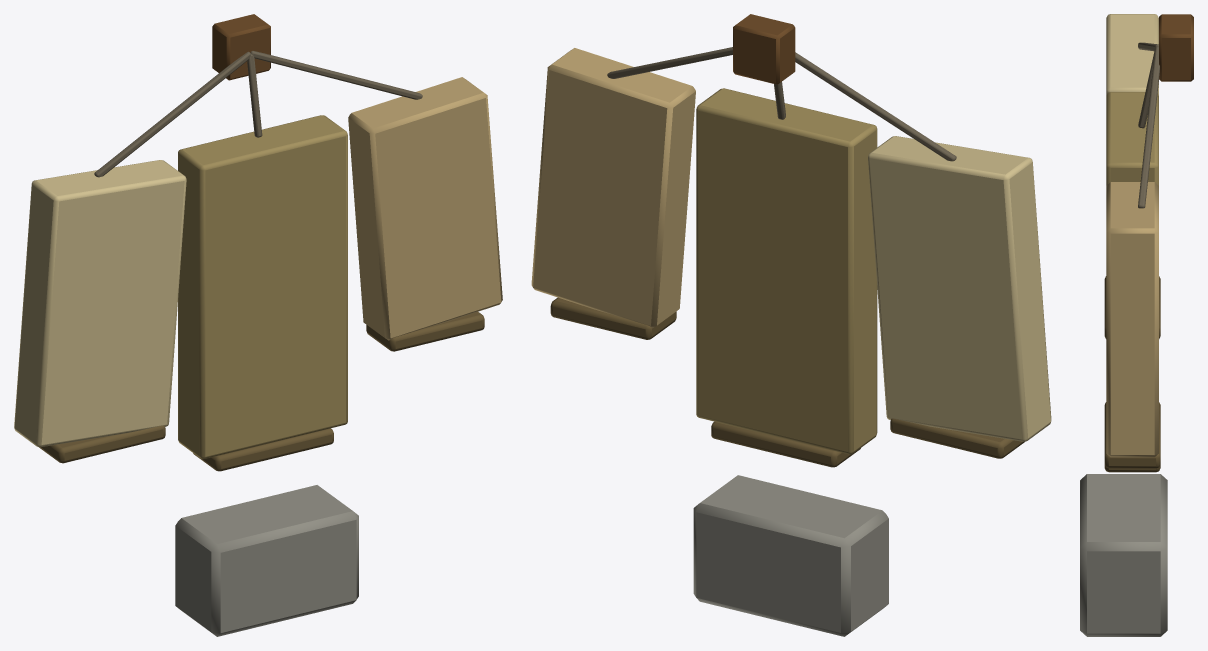
Rendered from TuiGiaVi_Treo.glb.
3 views of the same model, side by side, from view 1: azimuth 30°, elevation 25°; view 2: azimuth 150°, elevation 25°; view 3: azimuth 270°, elevation 25° (orthographic). The views are drawn at different scales.
Visible parts, largest first — view 1: TuiGiaVi_Treo; view 2: TuiGiaVi_Treo; view 3: TuiGiaVi_Treo.
Part boxes in pixels (left/top/right/bottom): TuiGiaVi_Treo: left=14, top=14, right=502, bottom=636; TuiGiaVi_Treo: left=531, top=14, right=1051, bottom=636; TuiGiaVi_Treo: left=1080, top=14, right=1193, bottom=636.
Size of the model in its own units: 0.3159 by 0.365 by 0.065.
